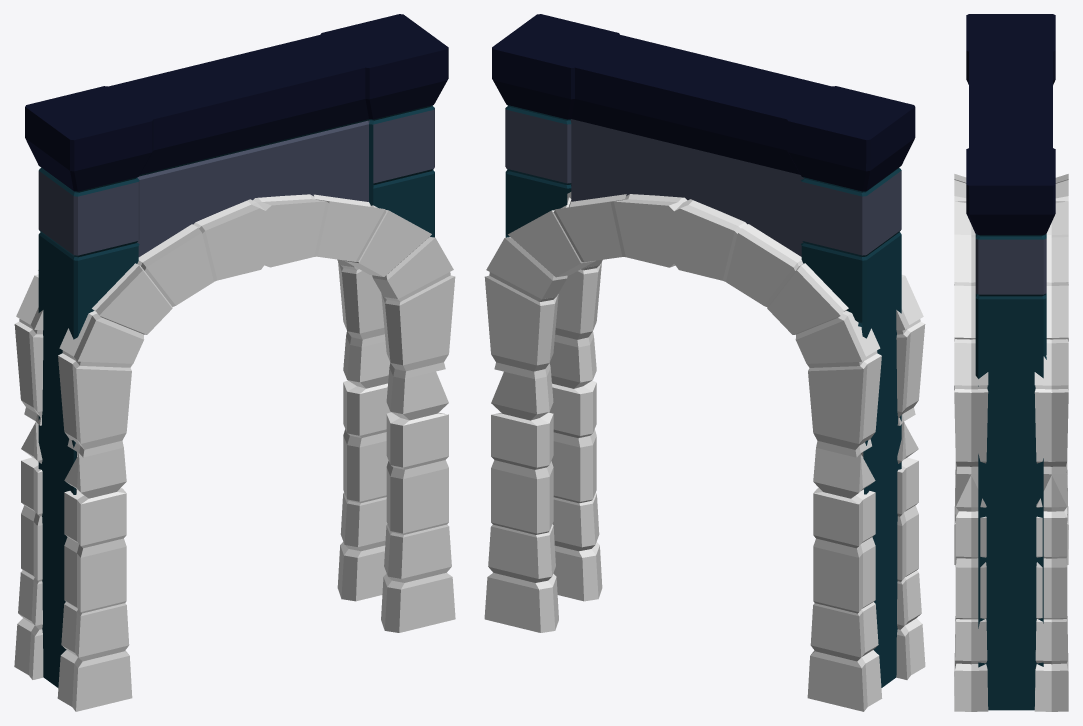
File: Pintu Artefak Testing 1.fbx
The picture shows the model from 3 angles, left to right: view 1: azimuth 30°, elevation 25°; view 2: azimuth 150°, elevation 25°; view 3: azimuth 270°, elevation 25°; orthographic projection. The views are drawn at different scales.
Parts seen in each view (by area): view 1: Plane.038, Tiang 40x40 cm.011, Tiang 40x40 cm.010, Plane.039; view 2: Plane.039, Tiang 40x40 cm.011, Tiang 40x40 cm.010, Plane.038; view 3: Tiang 40x40 cm.010, Plane.039, Plane.038, Tiang 40x40 cm.011.
Part boxes in pixels (box(x1,y1,x2,y2)): Plane.038: box(57, 194, 455, 711); Tiang 40x40 cm.011: box(25, 34, 365, 687); Tiang 40x40 cm.010: box(137, 14, 448, 256); Plane.039: box(14, 259, 390, 679); Plane.039: box(484, 194, 882, 711); Tiang 40x40 cm.011: box(575, 35, 915, 687); Tiang 40x40 cm.010: box(492, 14, 804, 256); Plane.038: box(549, 192, 925, 679); Tiang 40x40 cm.010: box(966, 148, 1055, 710); Plane.039: box(1034, 174, 1068, 711); Plane.038: box(954, 174, 988, 711); Tiang 40x40 cm.011: box(966, 14, 1055, 147).
Bounding box in the file's own units: 366 × 523 × 103.
